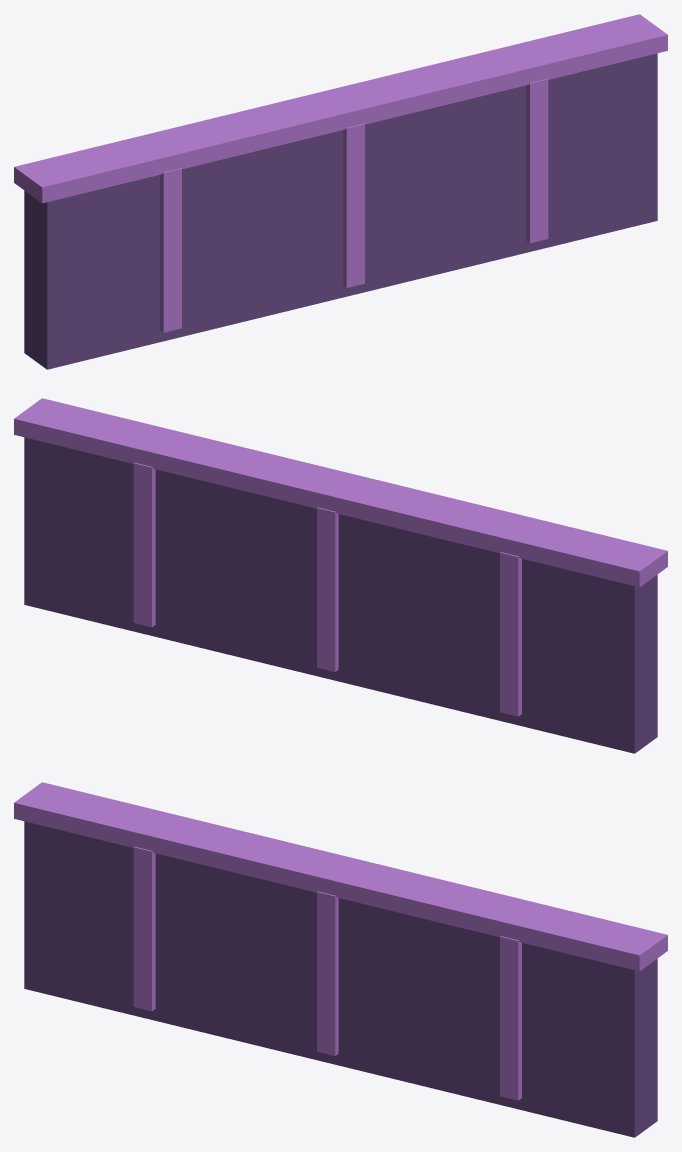
Rendered from shield_wall.glb.
The picture shows the model from 3 angles, top to bottom: view 1: azimuth 30°, elevation 25°; view 2: azimuth 150°, elevation 25°; view 3: azimuth 330°, elevation 25°; orthographic projection.
Parts seen in each view (by area): view 1: geometry_0; view 2: geometry_0; view 3: geometry_0.
Part boxes in pixels (box(x1,y1,x2,y2)): geometry_0: box(14, 14, 667, 369); geometry_0: box(14, 398, 667, 753); geometry_0: box(14, 782, 667, 1137).
Bounding box in the file's own units: 4.1 × 1.16 × 0.34.
